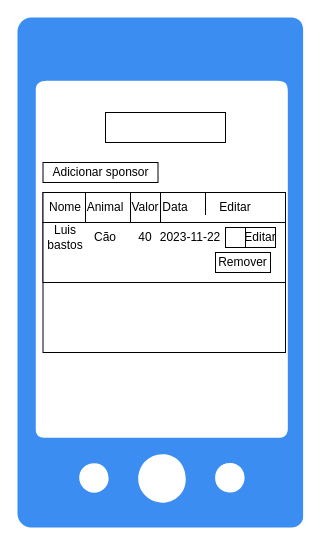
Image size: 320x544. Some labels were removed from this diagram. Each missing label, with the centre of its shape:
Lista de sponsors: the point at 165,127
Ver: the point at 235,237
